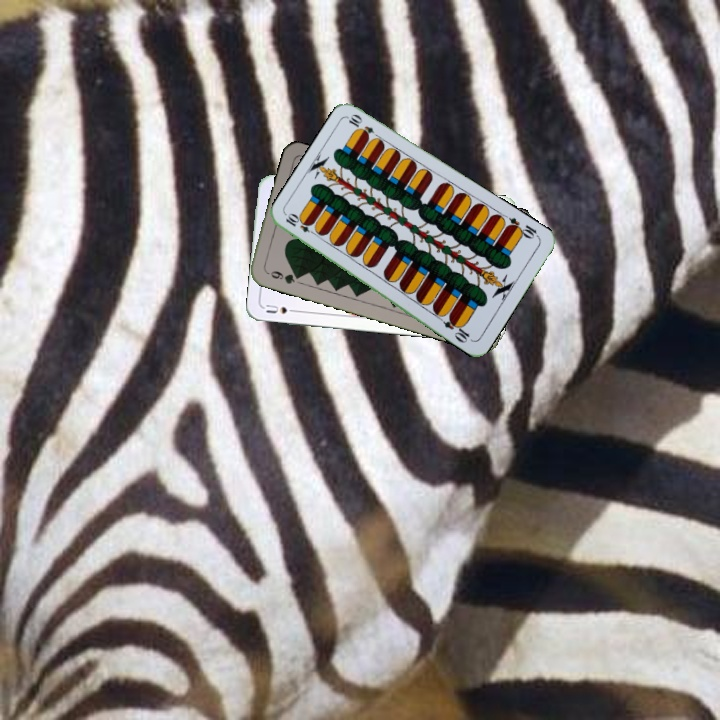E10: (503, 213, 542, 242), (282, 210, 320, 238)
G9: (262, 267, 304, 286)
SU: (261, 300, 301, 316)
